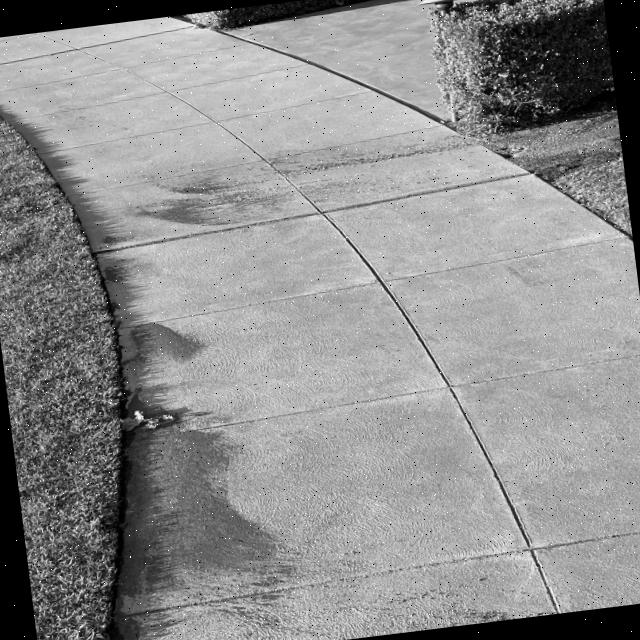walkway: (122, 284, 640, 503), (127, 429, 640, 640), (80, 154, 514, 387), (140, 78, 378, 280), (52, 58, 320, 222), (0, 18, 171, 111)
walkway-edge: (54, 168, 164, 443), (485, 104, 631, 274), (81, 420, 166, 640), (0, 49, 83, 242)
